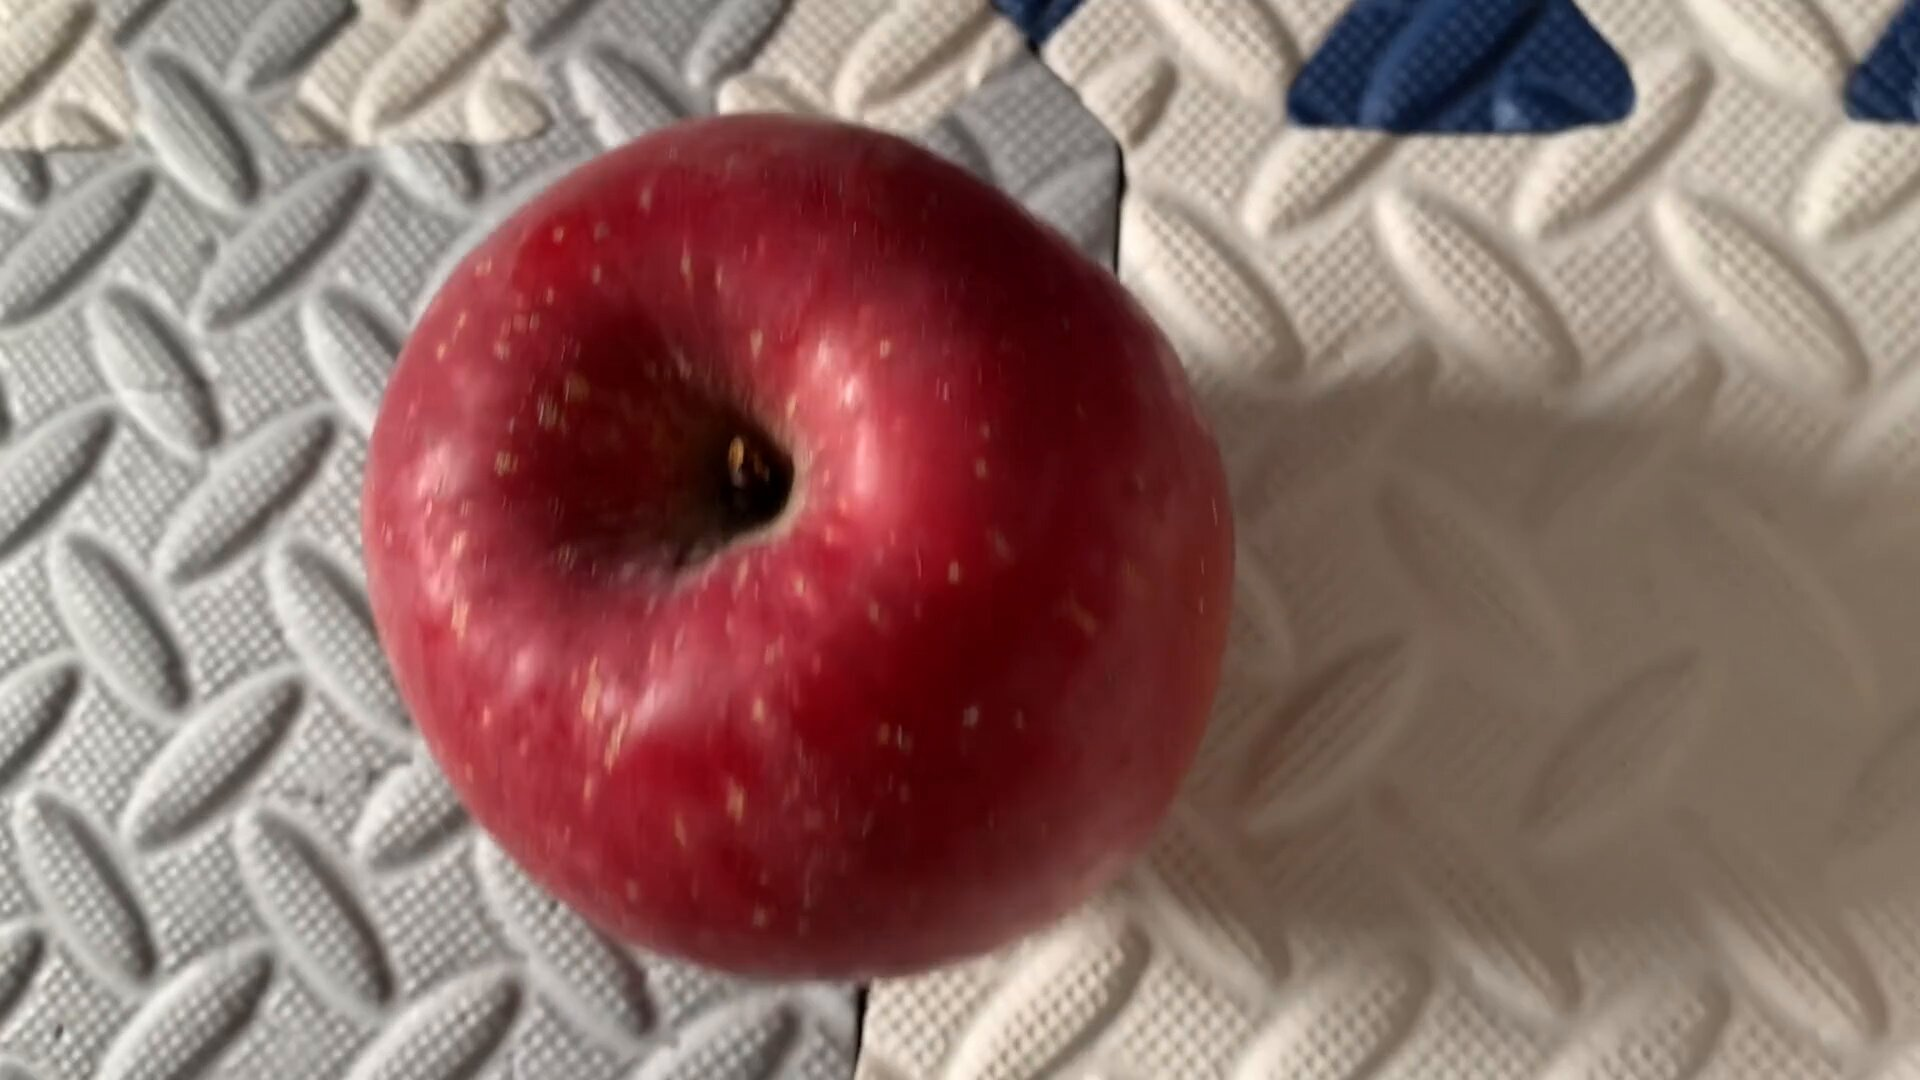不可回收水果: (310, 90, 1250, 1011)
